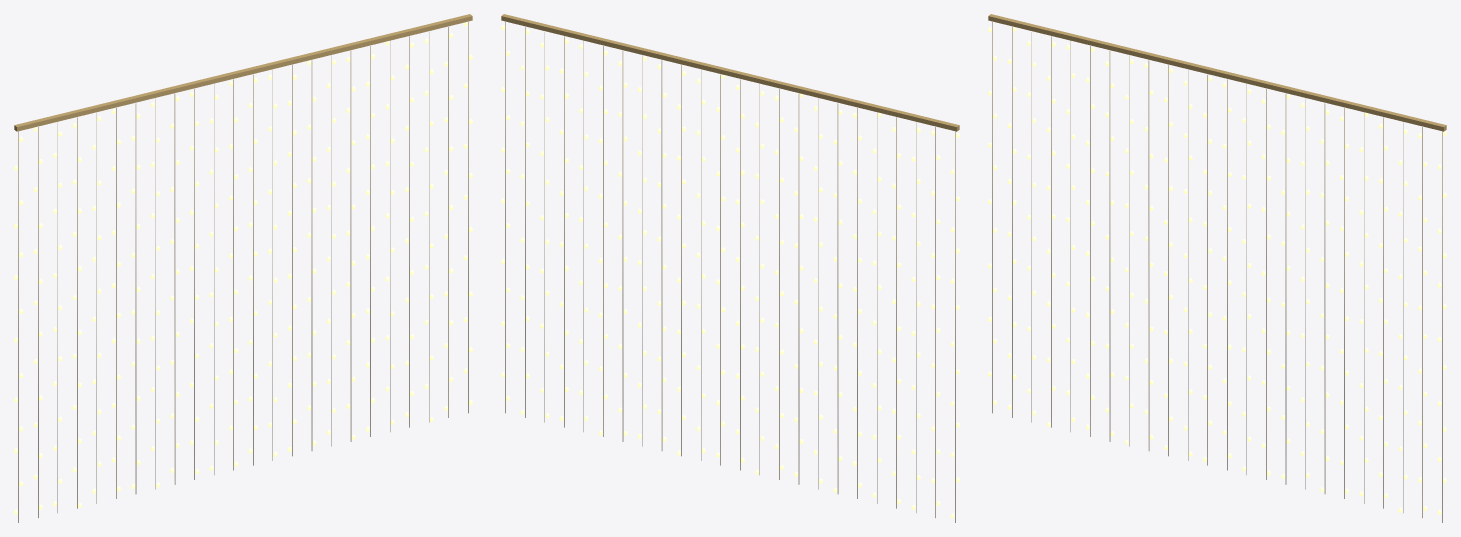
The model's file is lighting-curtain.glb.
The picture shows the model from 3 angles, left to right: view 1: azimuth 30°, elevation 25°; view 2: azimuth 150°, elevation 25°; view 3: azimuth 330°, elevation 25°; orthographic projection.
Parts seen in each view (by area): view 1: BS_CurtainTop, BS_Drop_06, BS_Drop_08, BS_Drop_15, BS_Drop_17; view 2: BS_CurtainTop, BS_Drop_06, BS_Drop_08, BS_Drop_15, BS_Drop_17; view 3: BS_CurtainTop, BS_Drop_06, BS_Drop_08, BS_Drop_15, BS_Drop_17.
Part boxes in pixels (box(x1,y1,x2,y2)): BS_CurtainTop: box(14, 14, 472, 131); BS_Drop_06: box(135, 103, 136, 493); BS_Drop_08: box(174, 94, 175, 484); BS_Drop_15: box(311, 60, 312, 450); BS_Drop_17: box(350, 51, 351, 441); BS_CurtainTop: box(501, 14, 959, 131); BS_Drop_06: box(837, 103, 838, 493); BS_Drop_08: box(798, 94, 799, 484); BS_Drop_15: box(661, 60, 662, 450); BS_Drop_17: box(622, 51, 623, 441); BS_CurtainTop: box(988, 14, 1446, 131); BS_Drop_06: box(1109, 51, 1110, 441); BS_Drop_08: box(1148, 60, 1149, 450); BS_Drop_15: box(1285, 94, 1286, 484); BS_Drop_17: box(1324, 103, 1325, 493).
Size of the model in its own units: 3 by 2.5 by 0.08.
